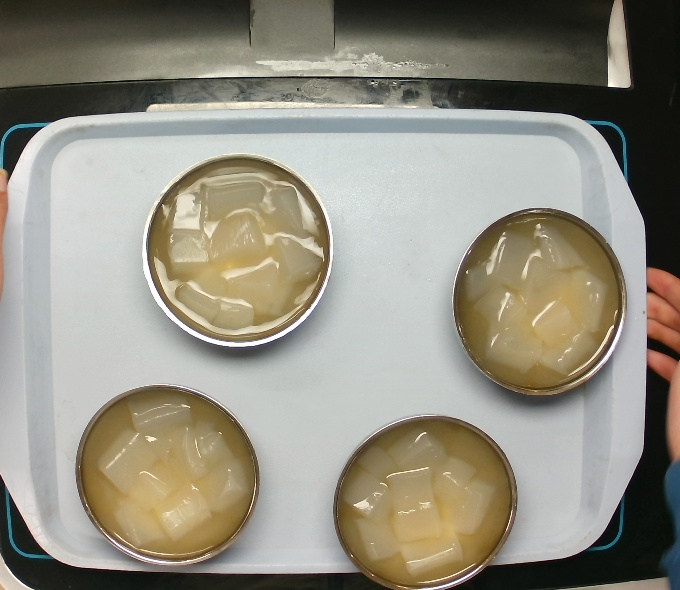wcq-YeGuoLi: (432, 211, 640, 399), (320, 404, 531, 589), (132, 159, 343, 344), (73, 377, 259, 561)
